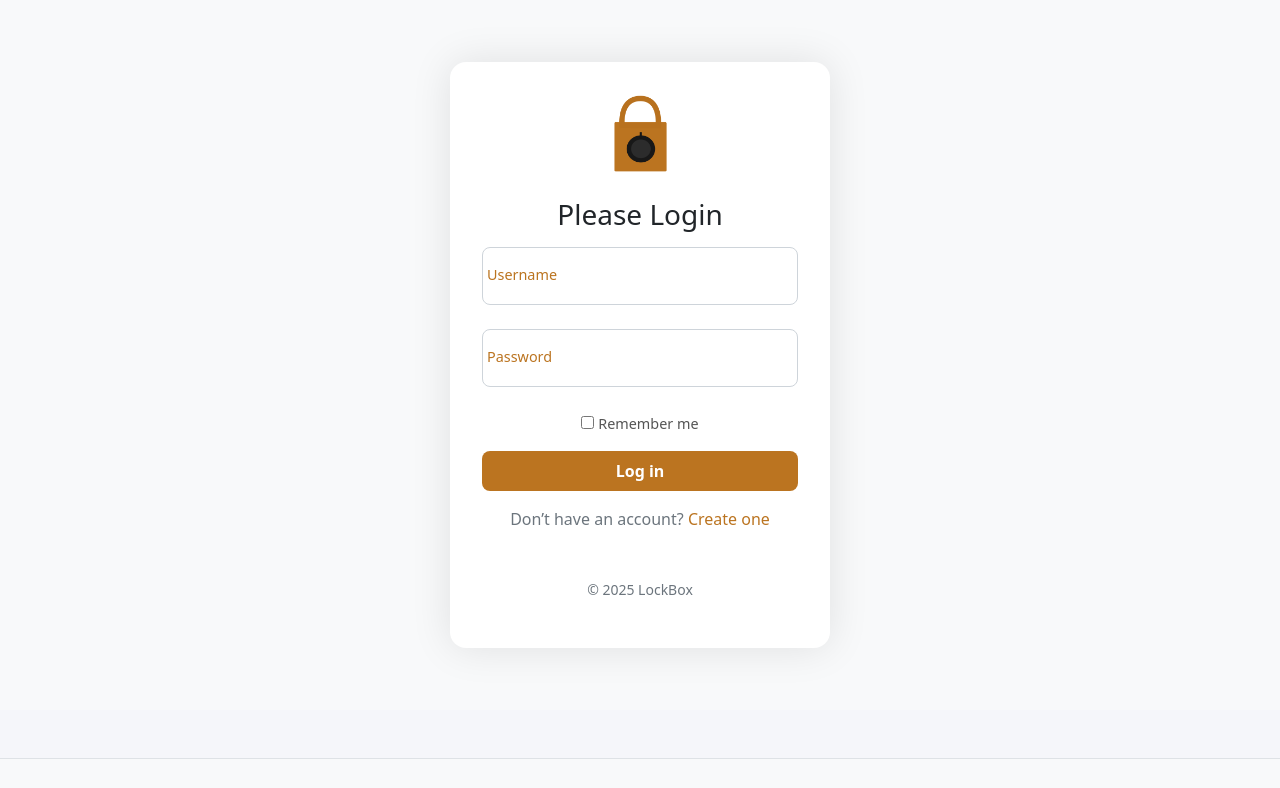
Test: Login Page Tests › should show error for short password
This screenshot has width=1280, height=788.
Type "test123" into the field with id "floatingUsername" at (640, 276), box [482, 247, 798, 305]
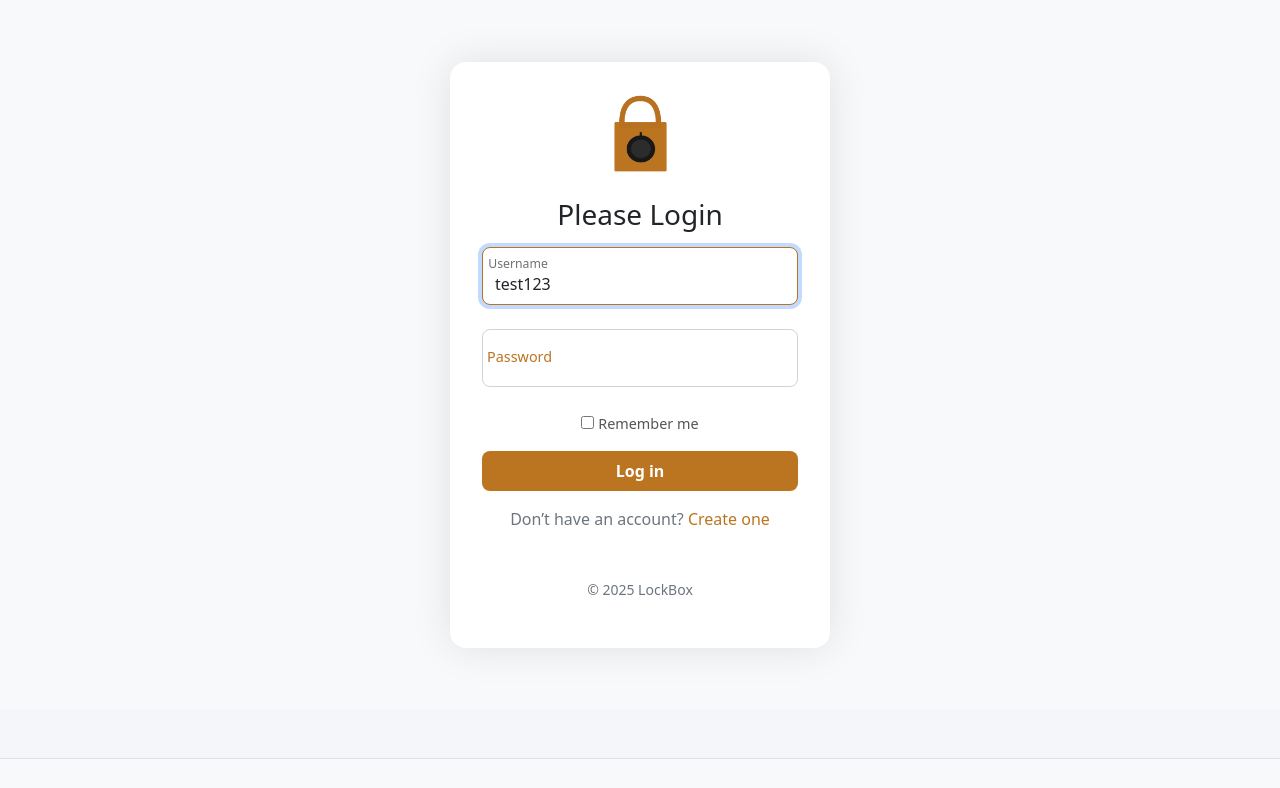
Type "123" into the password field with id "floatingPassword" at (640, 358), box [482, 329, 798, 387]
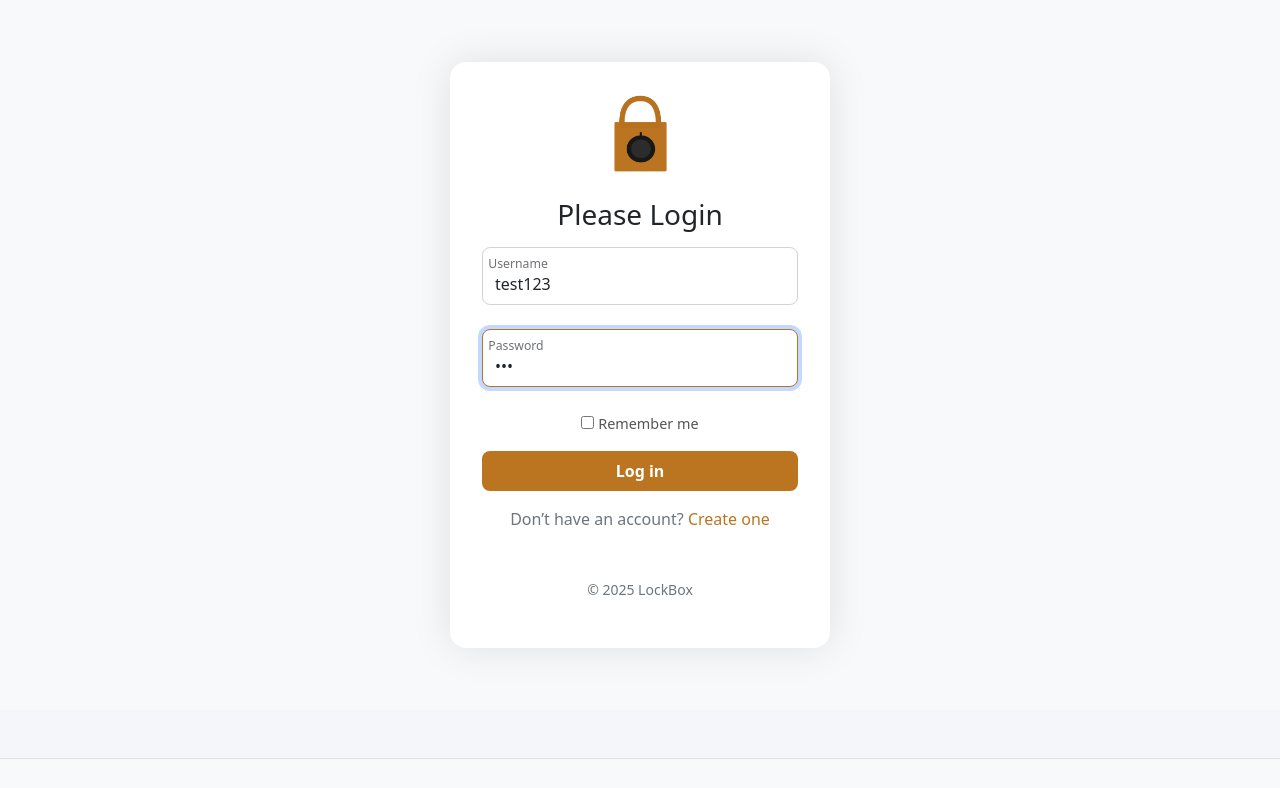
Click the submit button at (640, 471), box [482, 451, 798, 491]
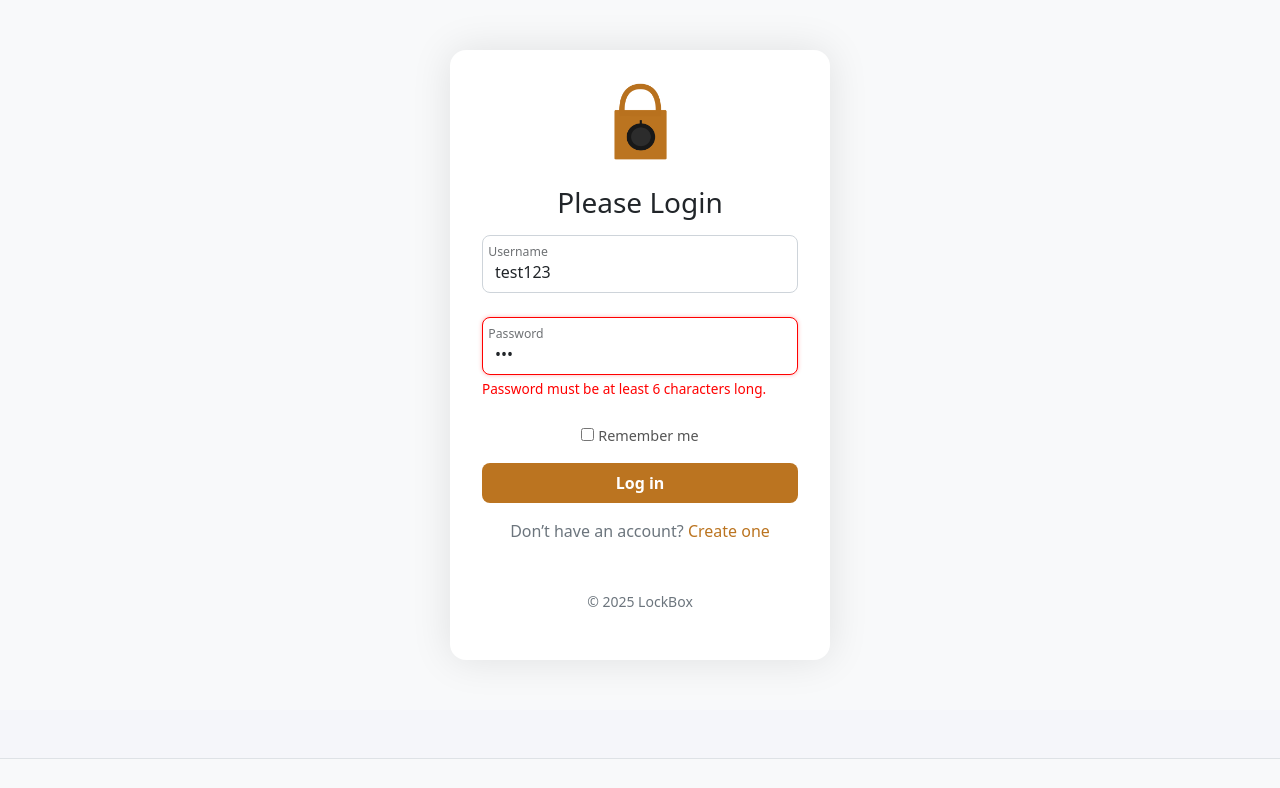
expect the text "Password must be at least 6 characters long." is shown: met, box [482, 379, 766, 400]
